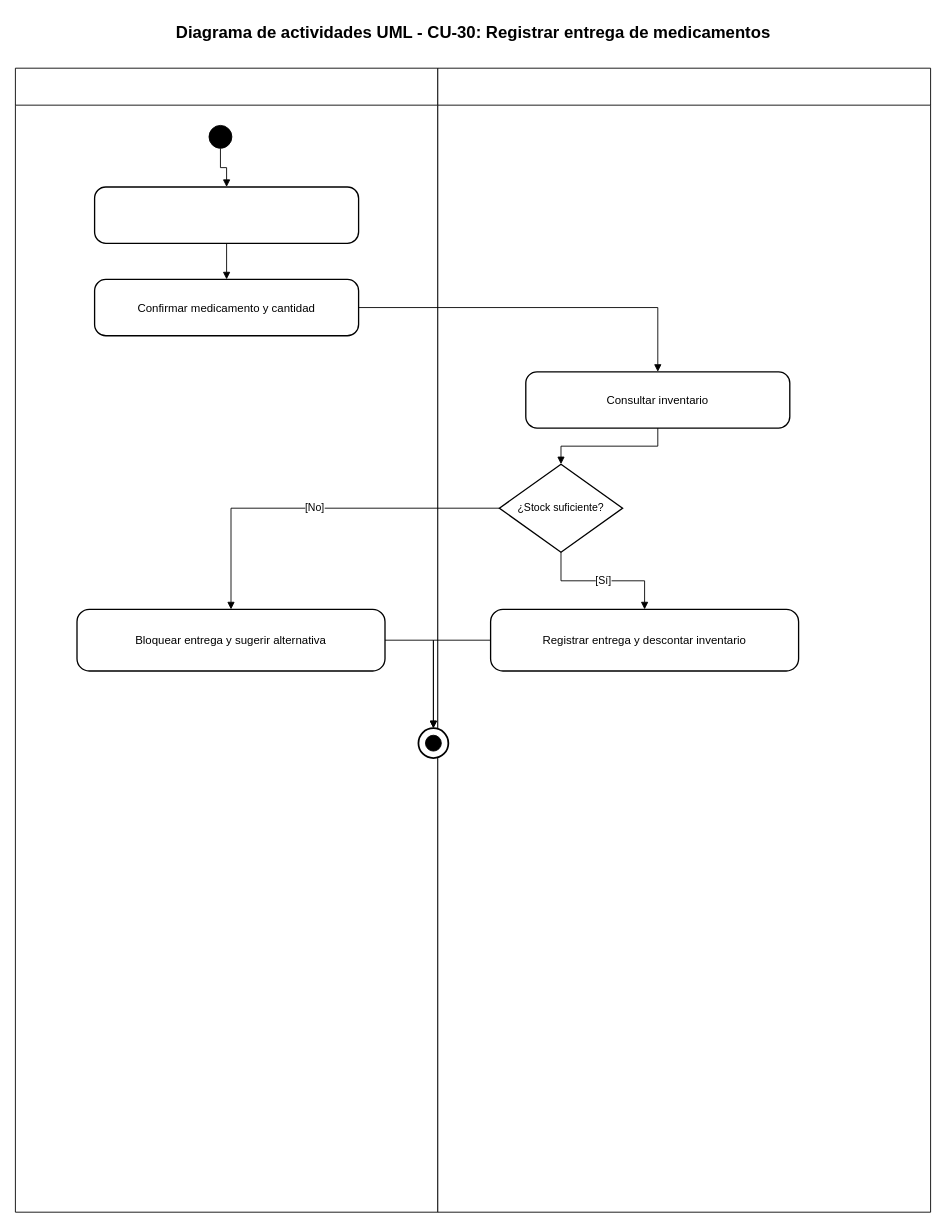
This 946x1228 diagram has some shape labels left out. The shapes that lost their labels are listed below. From the top down, each one's box as (x1, y1, x2, y2) in pixels, then its label:
(94, 186, 359, 244): Seleccionar tratamiento del paciente
(15, 67, 438, 1212): Enfermería
(437, 67, 931, 1212): SICM / Sistema
